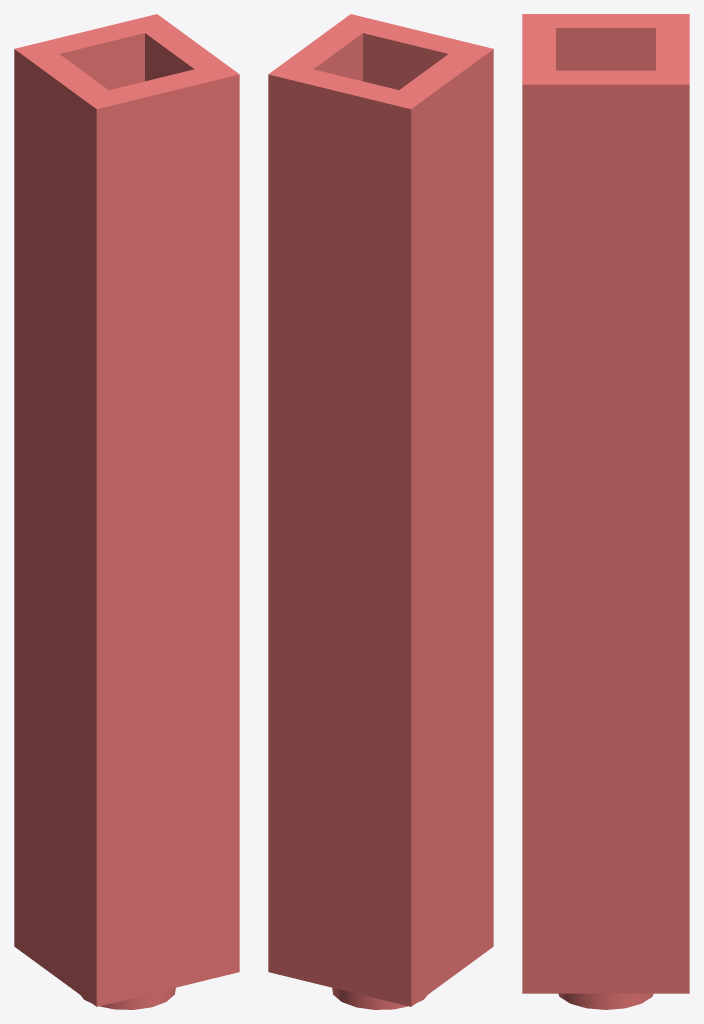
3 views of the same model, side by side, from view 1: azimuth 30°, elevation 25°; view 2: azimuth 150°, elevation 25°; view 3: azimuth 270°, elevation 25° (orthographic).
Visible parts, largest first — view 1: LDrawPart; view 2: LDrawPart; view 3: LDrawPart.
Boxes of the visible parts, x1,y1,x2,y2 form: LDrawPart: (14, 14, 239, 1009); LDrawPart: (268, 14, 493, 1009); LDrawPart: (522, 14, 689, 1009).
Bounding box in the file's own units: 0.14 × 0.868 × 0.14.
